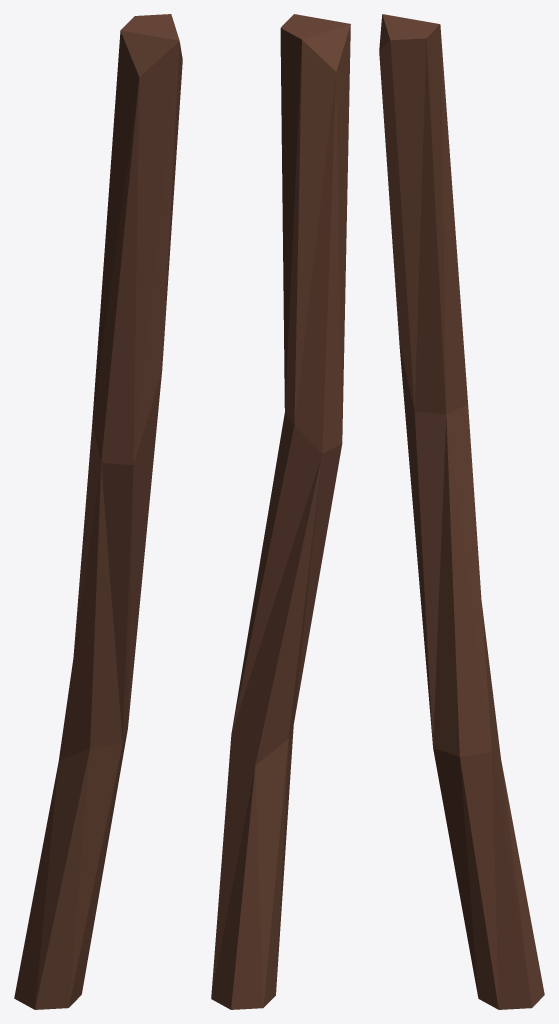
File: Wooden Stick_1.fbx
The picture shows the model from 3 angles, left to right: view 1: azimuth 90°, elevation 25°; view 2: azimuth 150°, elevation 25°; view 3: azimuth 270°, elevation 25°; orthographic projection. The views are drawn at different scales.
Visible parts, largest first — view 1: Wooden Stick_1.001; view 2: Wooden Stick_1.001; view 3: Wooden Stick_1.001.
Boxes of the visible parts, x1,y1,x2,y2 form: Wooden Stick_1.001: [14, 14, 182, 1009]; Wooden Stick_1.001: [211, 14, 350, 1009]; Wooden Stick_1.001: [379, 14, 544, 1009].
Size of the model in its own units: 0.1773 by 1.76 by 0.2752.
